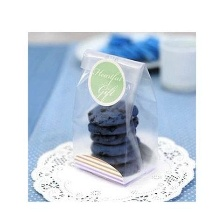snack: (63, 43, 165, 190)
